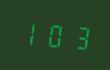one: (18, 17, 41, 49)
three: (67, 20, 90, 52)
zero: (43, 19, 66, 50)
